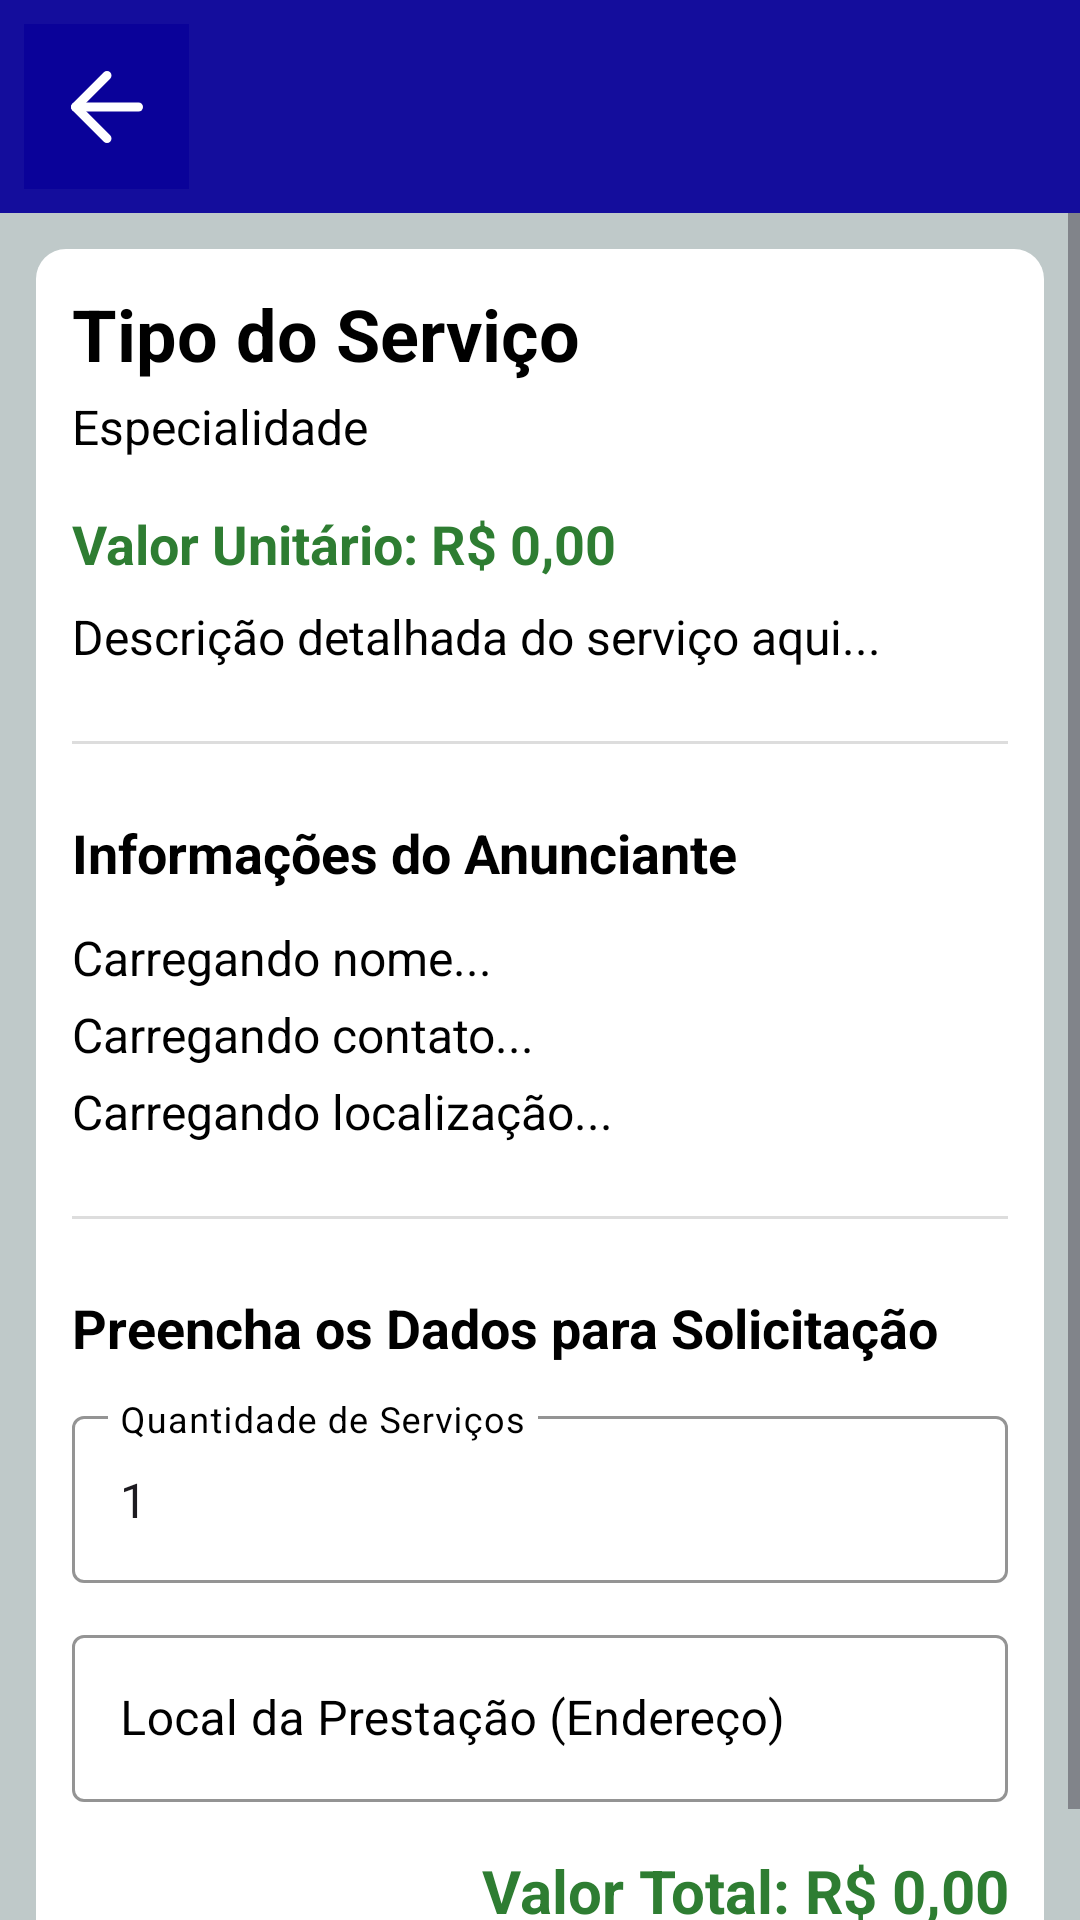

Screen size 1080×1920. Icon name, then its box in pixels as (x1, y1, x2, y2):
arrow left: (24, 24, 189, 189)
